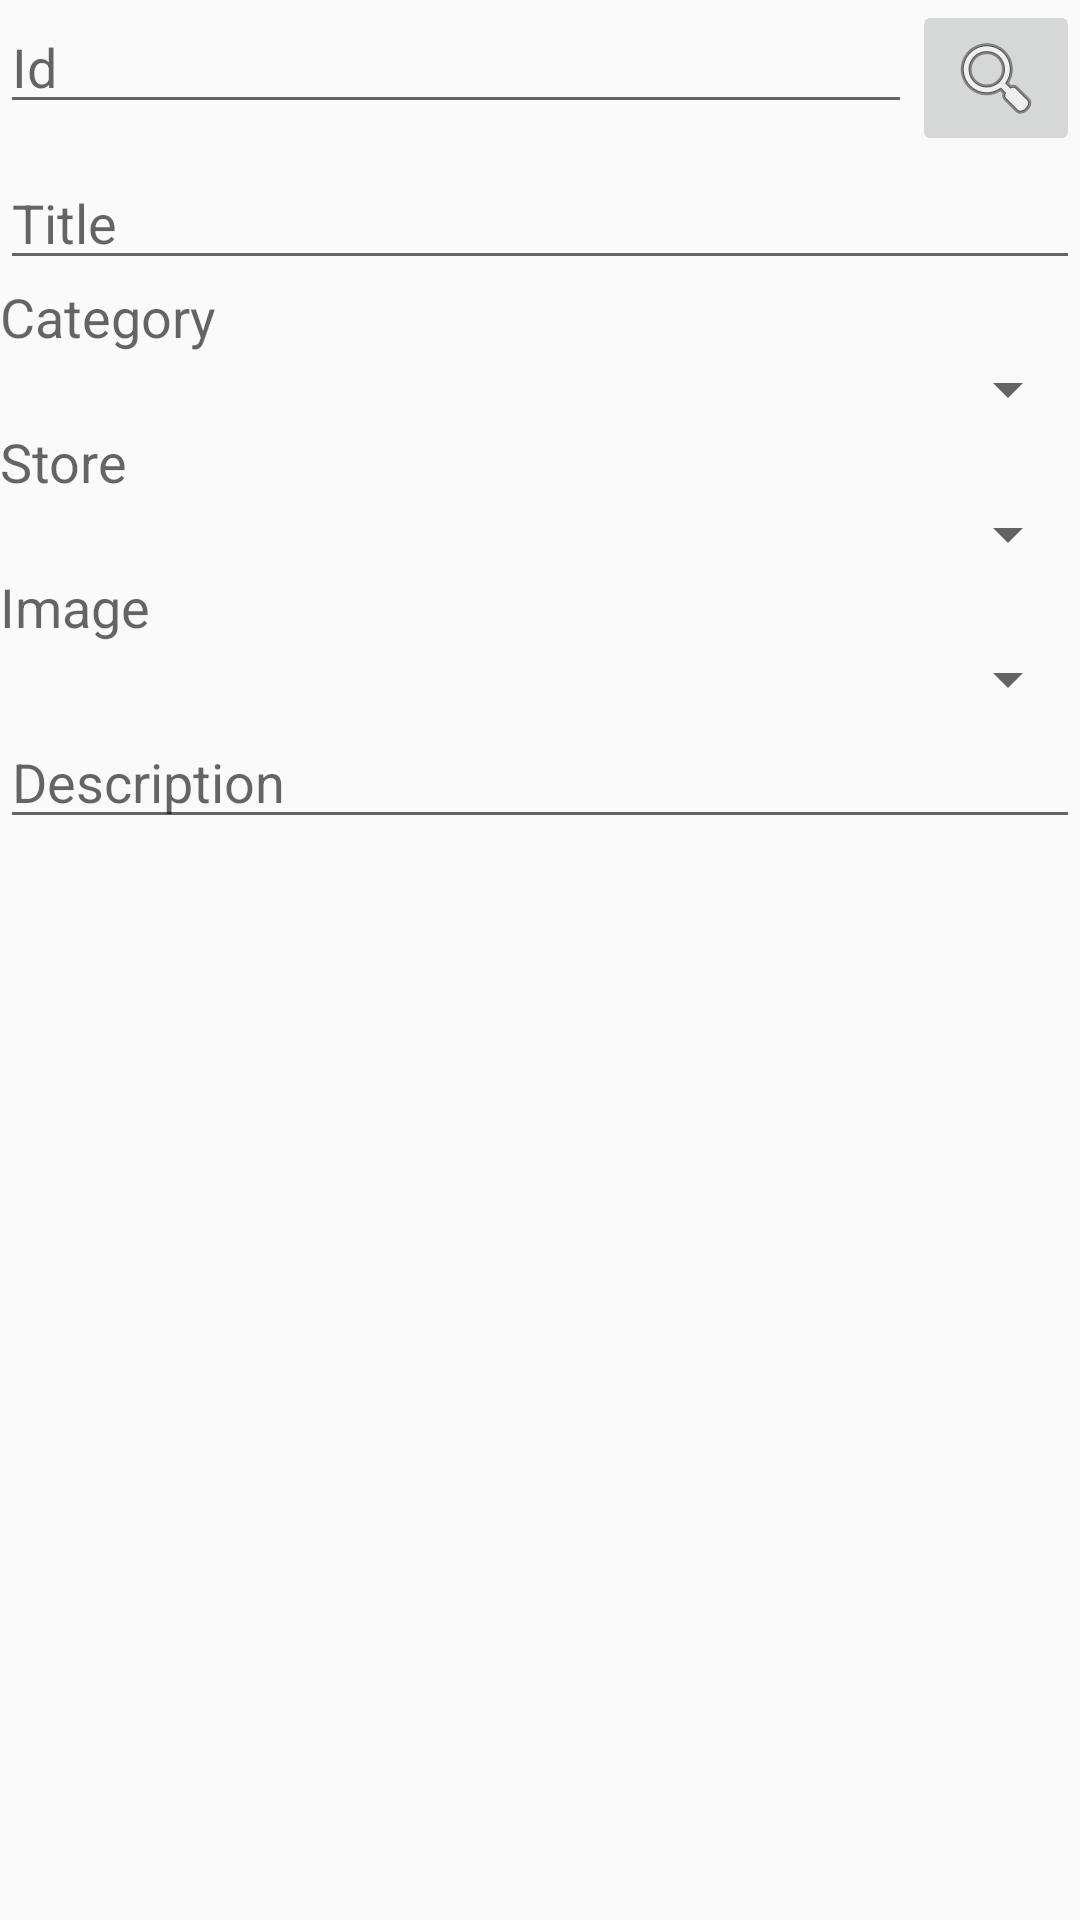

Where icons sit on this 1080 × 1920 app screen, as (x1, y1, x2, y2):
search: (924, 18, 1068, 138)
